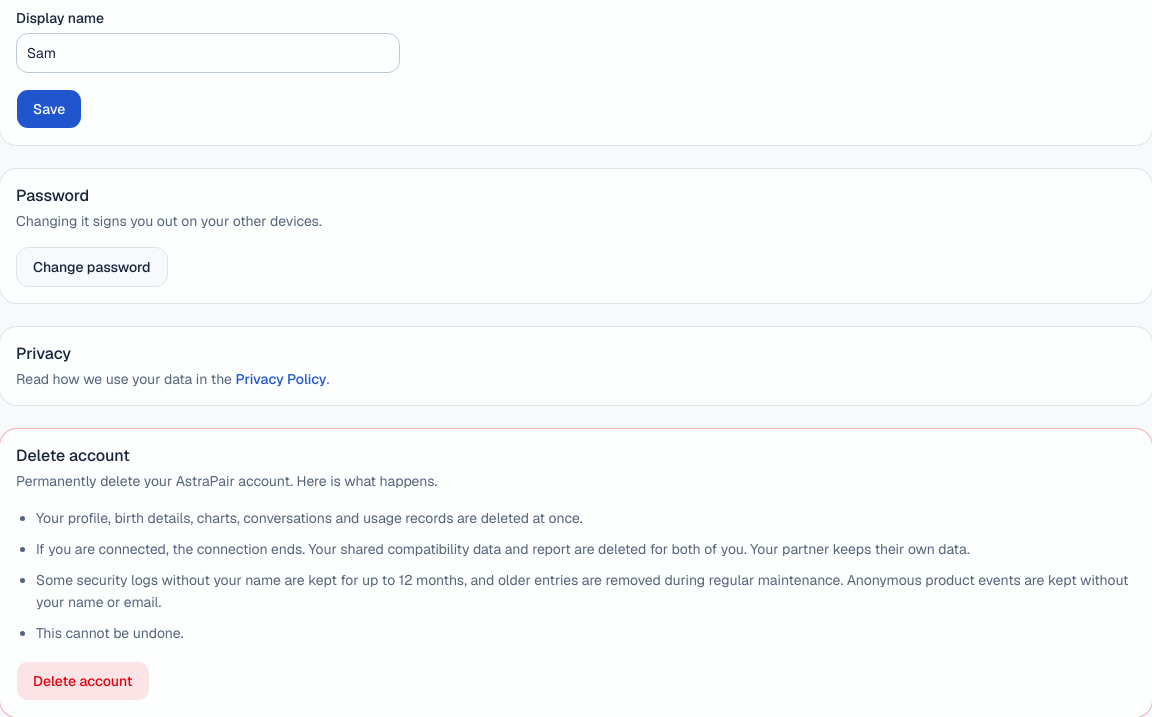
Settings page delete account mode › drops the password field for a Google only account
(page scrolled)
Click the button "Delete account" at (83, 681), box x1=16 y1=661 x2=150 y2=701
(page scrolled)
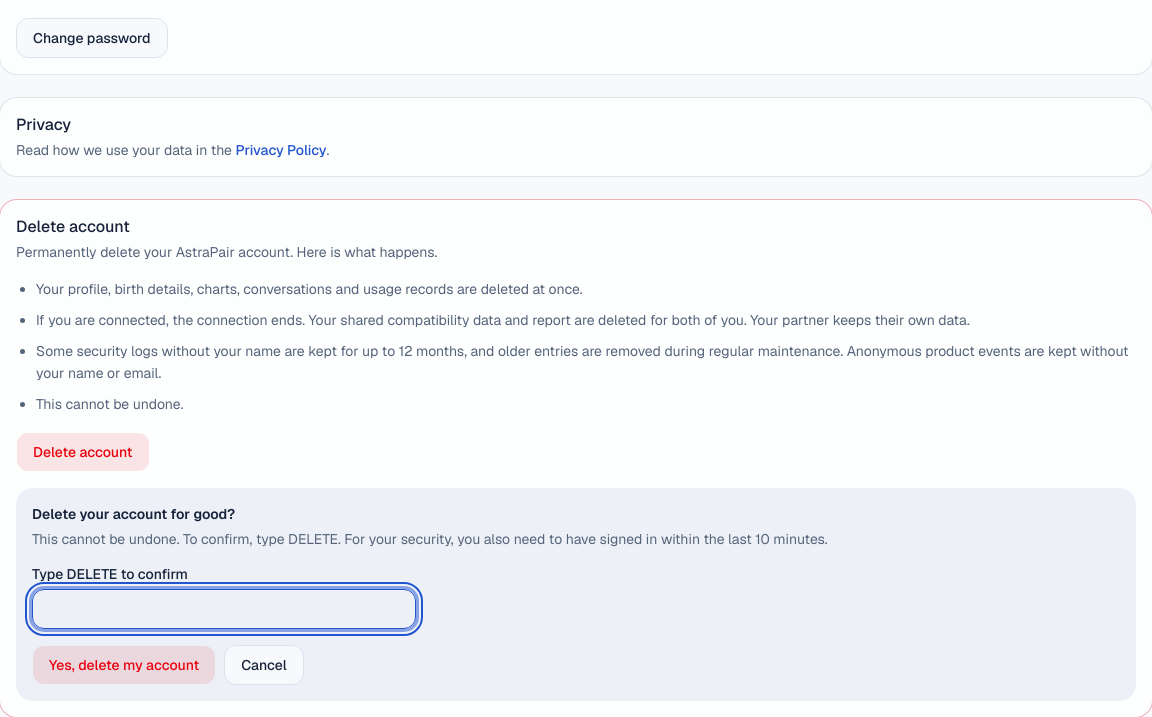
Now the dialog shows "signed in within the last 10 minutes", box x1=32 y1=530 x2=828 y2=548
